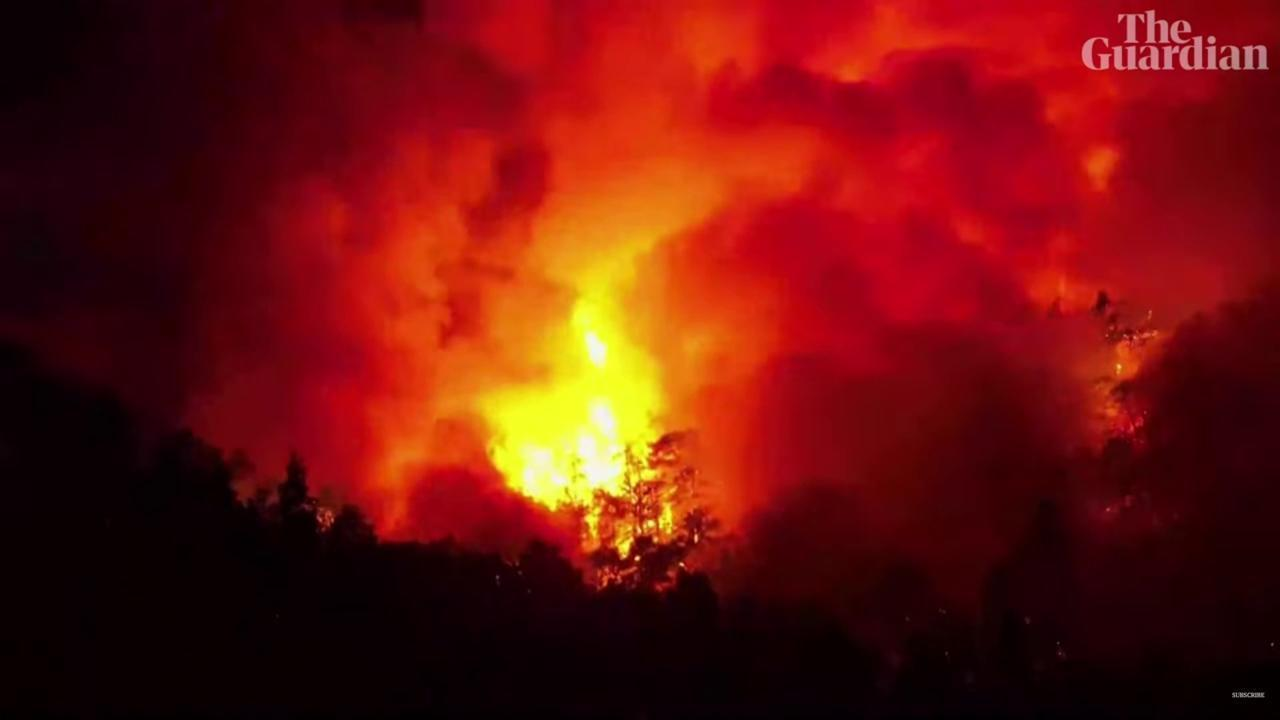fire: (477, 294, 677, 562), (1114, 363, 1123, 375)
smoke: (0, 1, 1280, 674)
